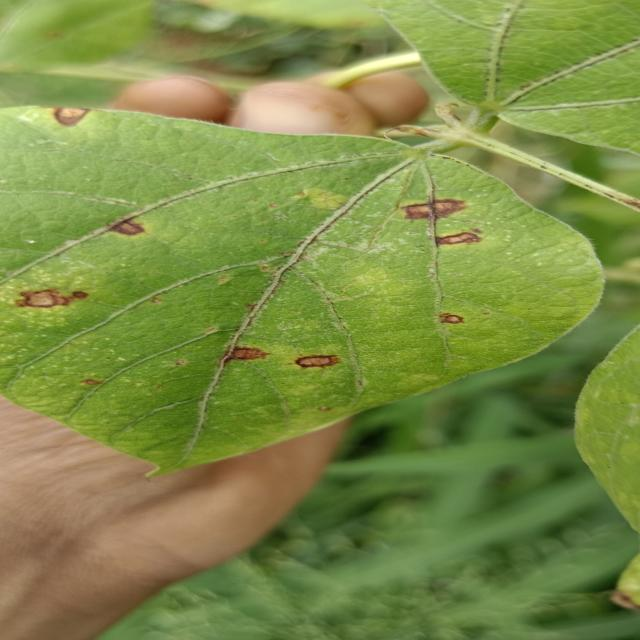Dolicos bean_cercospora leaf spot: (8, 105, 587, 472)
